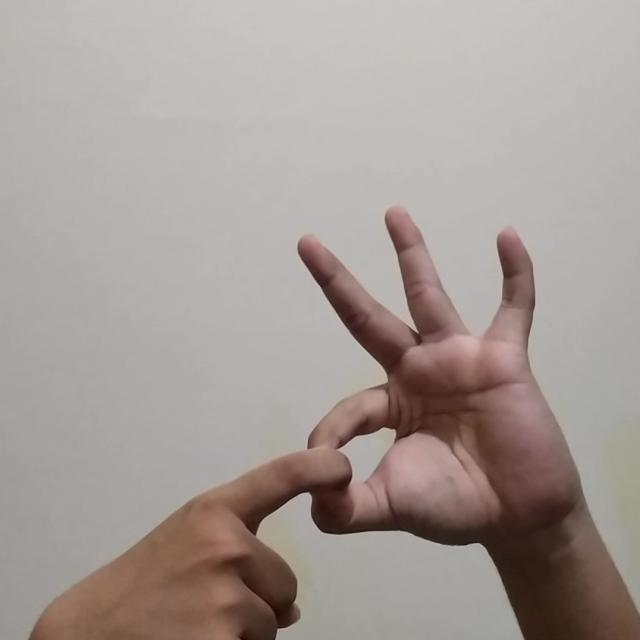Q: (54, 201, 595, 631)
